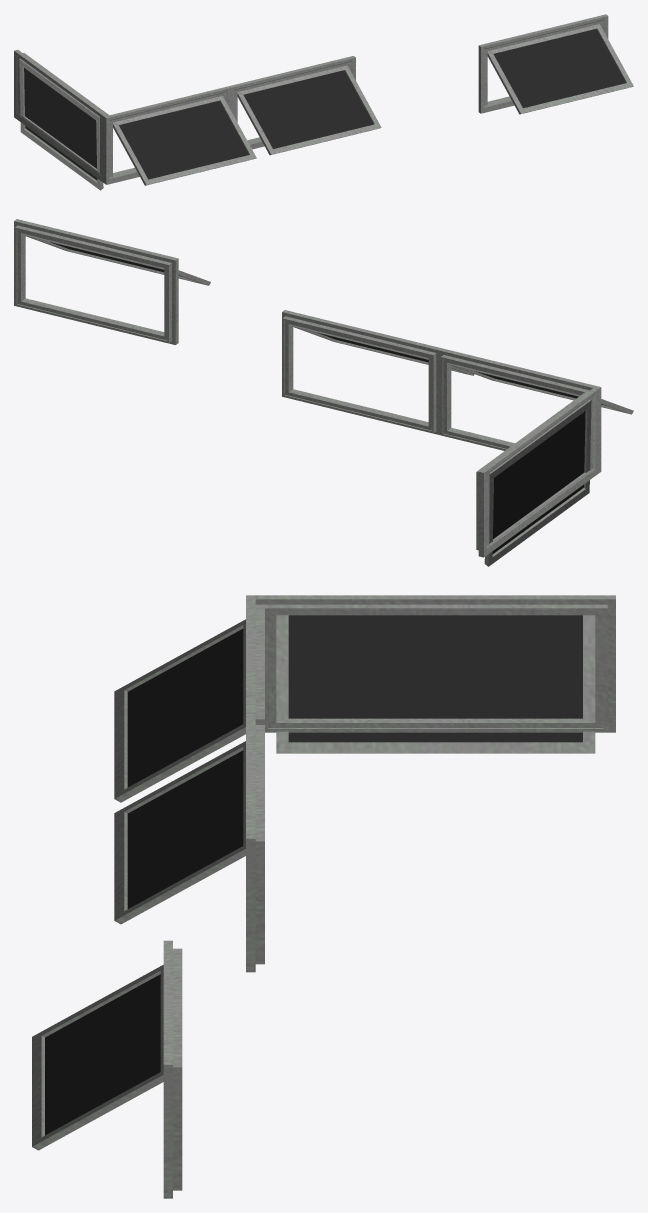
3 views of the same model, one above another, from view 1: azimuth 30°, elevation 25°; view 2: azimuth 150°, elevation 25°; view 3: azimuth 270°, elevation 25° (orthographic). The views are drawn at different scales.
Visible parts, largest first — view 1: VENTANALES; view 2: VENTANALES; view 3: VENTANALES.
Boxes of the visible parts, x1,y1,x2,y2 form: VENTANALES: (14, 14, 633, 190); VENTANALES: (14, 219, 633, 566); VENTANALES: (32, 595, 615, 1198).
Bounding box in the file's own units: 3.02 × 0.4694 × 1.59.
2 materials, 1 textured.
